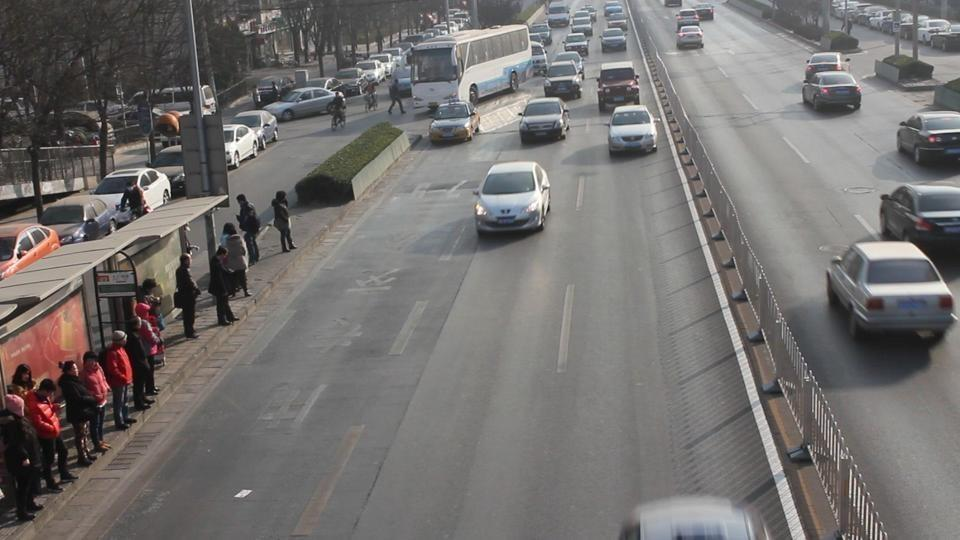car: (824, 239, 957, 342), (618, 495, 770, 539), (878, 183, 960, 260), (472, 161, 552, 233), (39, 193, 116, 243), (88, 168, 171, 214), (896, 109, 960, 166), (0, 221, 62, 279), (266, 85, 341, 123), (800, 68, 863, 113), (202, 122, 261, 167), (518, 97, 572, 145), (608, 105, 658, 155), (428, 100, 480, 145), (596, 63, 640, 113), (231, 109, 279, 149), (151, 146, 187, 198), (544, 59, 584, 101), (254, 76, 299, 105), (326, 68, 368, 97), (355, 57, 391, 82), (676, 21, 705, 50), (563, 33, 590, 56), (570, 10, 595, 34), (528, 23, 553, 47), (601, 28, 627, 51), (547, 5, 571, 28)
